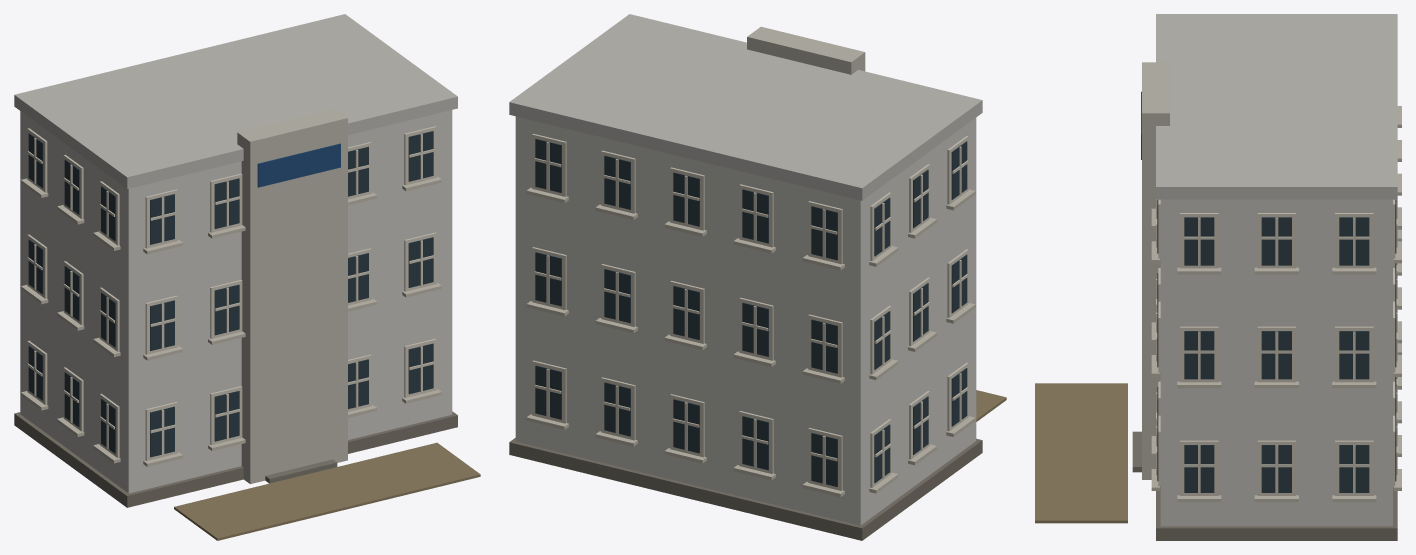
File: procedural_high_school@6.glb
3 renders of one model, left to right at view 1: azimuth 30°, elevation 25°; view 2: azimuth 150°, elevation 25°; view 3: azimuth 270°, elevation 25°, orthographic. The views are drawn at different scales.
Parts seen in each view (by area): view 1: part_0; view 2: part_0; view 3: part_0.
Part boxes in pixels (x1,y1,x2,y2): part_0: (14, 14, 480, 540); part_0: (509, 14, 1006, 540); part_0: (1035, 14, 1401, 540).
Bounding box in the file's own units: 8.98 × 8.7 × 7.89.
